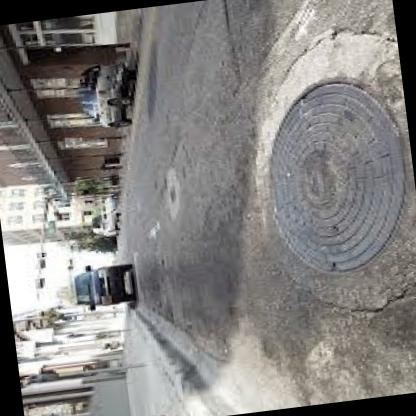manholes: (237, 36, 416, 292)
